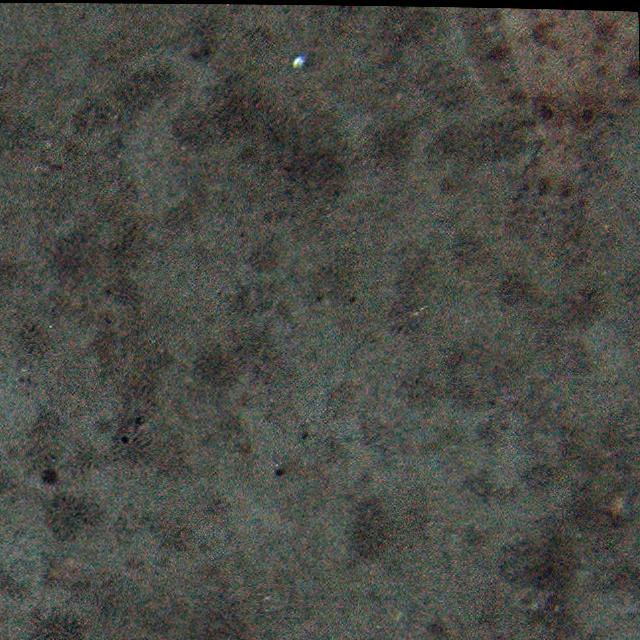flatfish: (453, 7, 640, 242)
